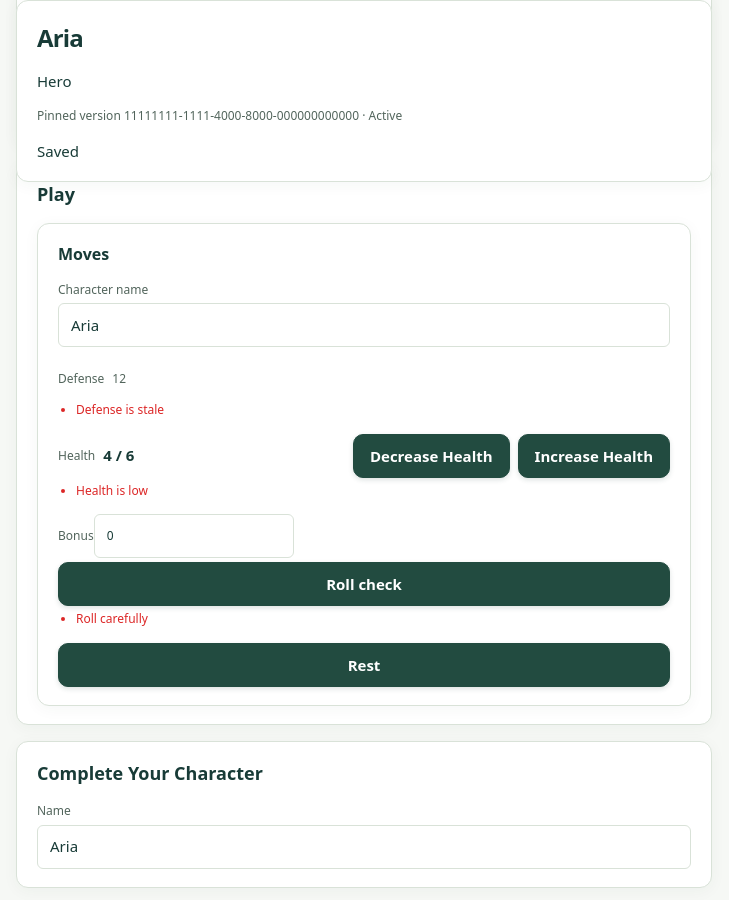
CharacterSheet › surfaces rejected action commands while preserving the entered inputs
This screenshot has width=729, height=900.
(page scrolled)
Replace the text in the number field labelled "Bonus" with "3" at (194, 536), box [94, 514, 294, 558]
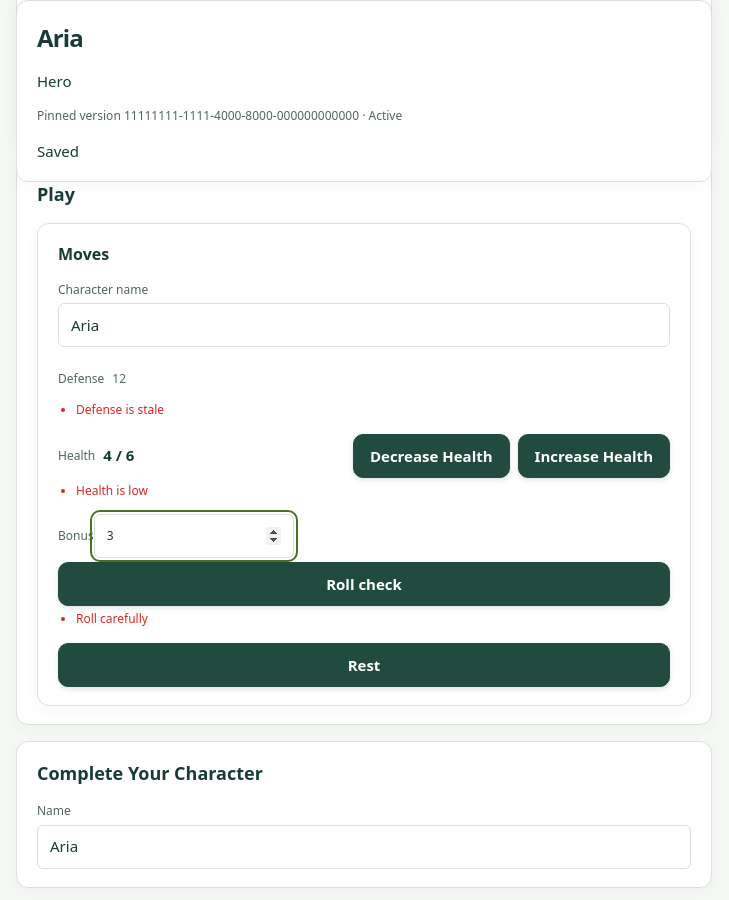
Click the button "Roll check" at (364, 584), box [58, 562, 670, 606]
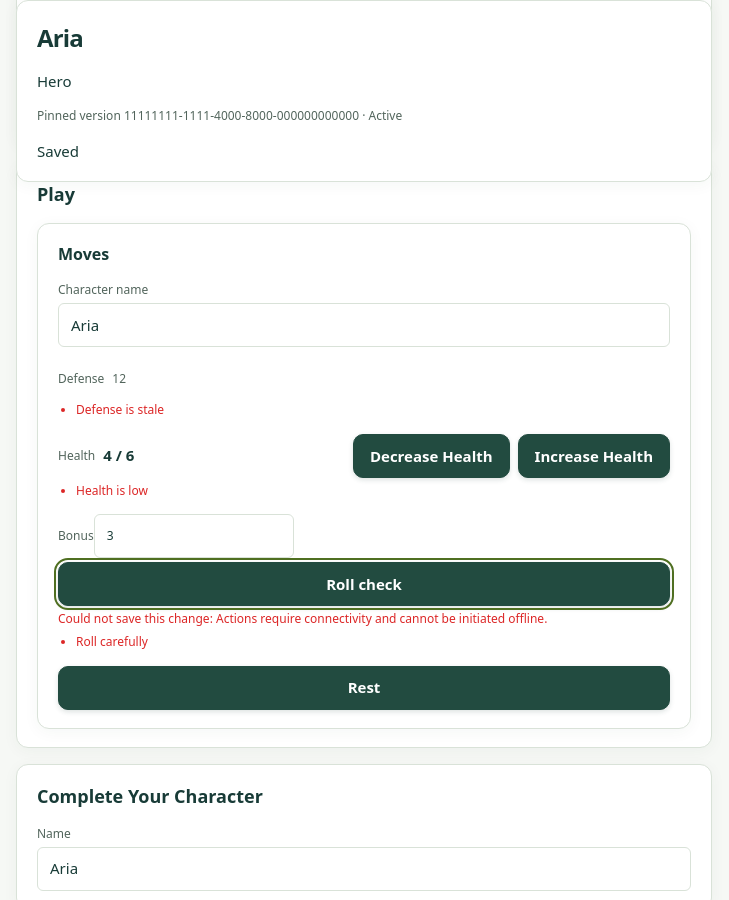
Expected: the 2nd message shows "Could not save this change", [58, 610, 547, 627]
